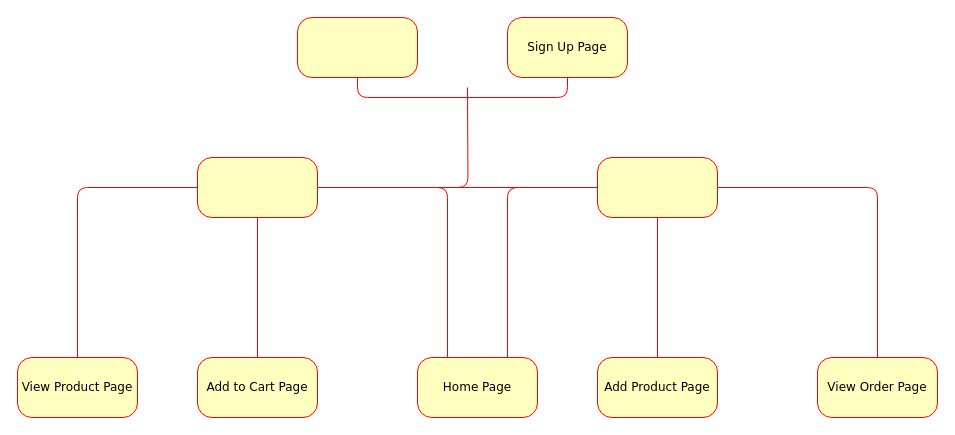
Image size: 955x435. Some labels were removed from this diagram. Each missing label, with the centre of its shape:
"Buyer Interface" goes at point 257,187.
"Login Page" goes at point 357,47.
"Seller Interface" goes at point 657,187.
